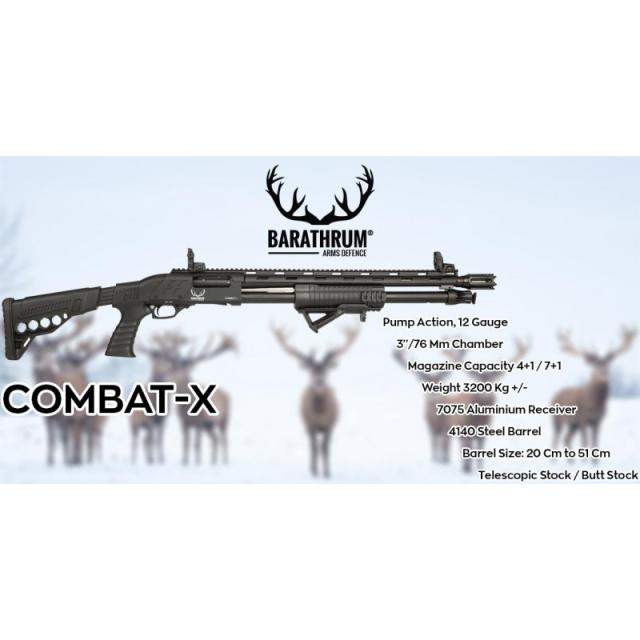ShotGun: (3, 257, 497, 360)
